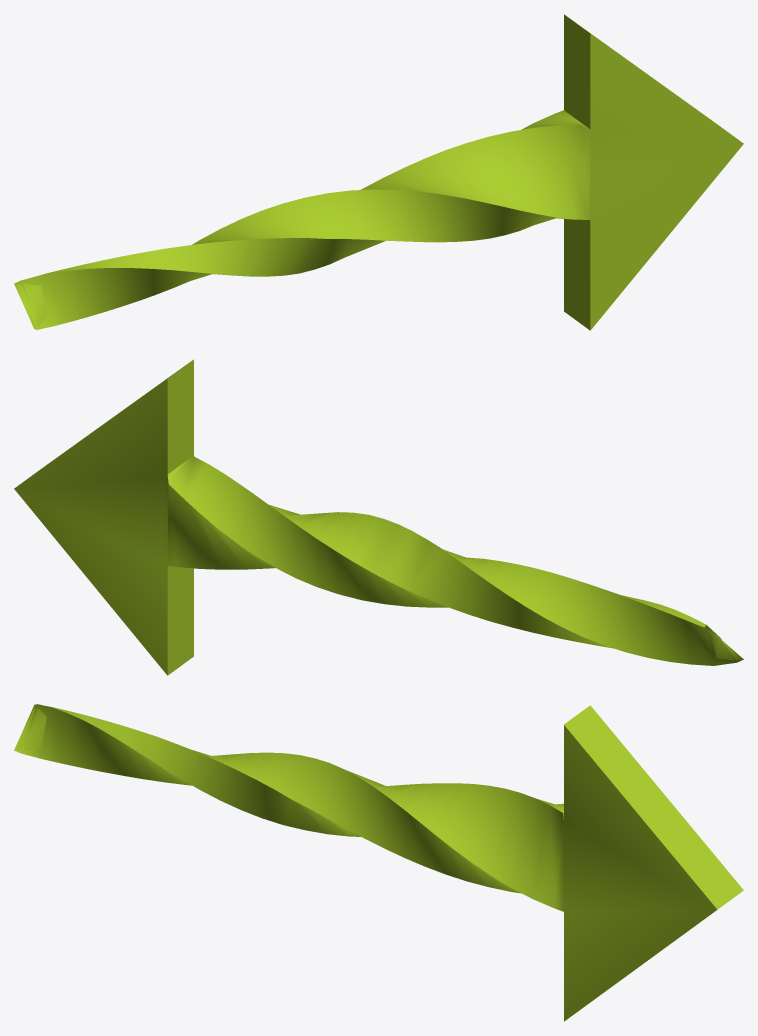
Rendered from 拧动标记1.gltf.
The picture shows the model from 3 angles, top to bottom: view 1: azimuth 30°, elevation 25°; view 2: azimuth 150°, elevation 25°; view 3: azimuth 330°, elevation 25°; orthographic projection.
Visible parts, largest first — view 1: 拧箭头; view 2: 拧箭头; view 3: 拧箭头.
Boxes of the visible parts, left/top/right/bottom form: 拧箭头: left=14, top=14, right=743, bottom=330; 拧箭头: left=14, top=359, right=743, bottom=675; 拧箭头: left=14, top=704, right=743, bottom=1021.
Size of the model in its own units: 154 by 61.89 by 18.89.
